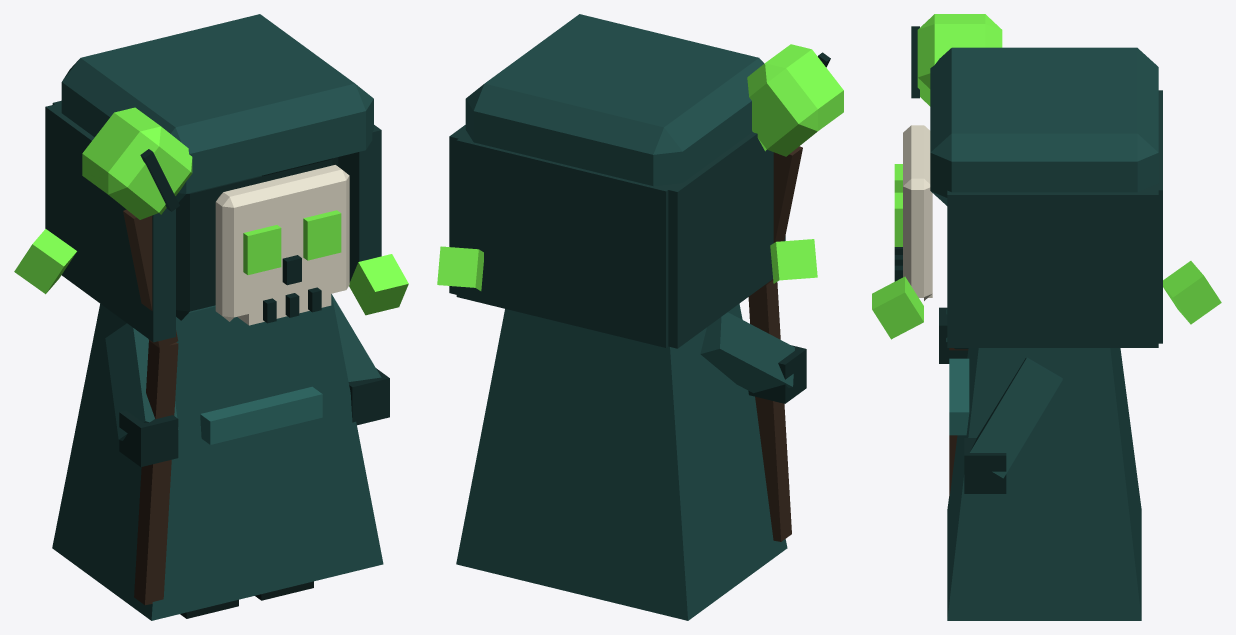
Rendered from weakener.glb.
The picture shows the model from 3 angles, left to right: view 1: azimuth 30°, elevation 25°; view 2: azimuth 150°, elevation 25°; view 3: azimuth 270°, elevation 25°; orthographic projection. The views are drawn at different scales.
Visible parts, largest first — view 1: weakener_mesh; view 2: weakener_mesh; view 3: weakener_mesh.
Part boxes in pixels (x1,y1,x2,y2): weakener_mesh: (14,14,408,620); weakener_mesh: (437,14,843,620); weakener_mesh: (872,14,1221,620).
Size of the model in its own units: 1.07 by 1.6 by 0.9931.
1 material, 1 textured.
